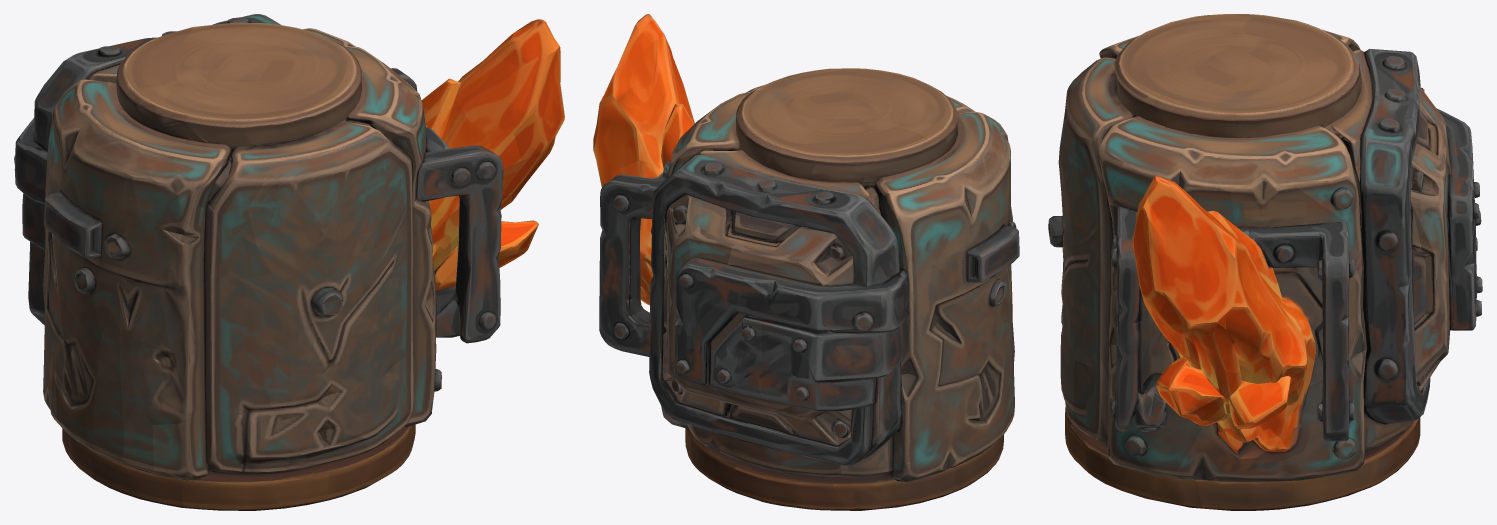
Rendered from 09_crystal_spur.glb.
3 renders of one model, left to right at view 1: azimuth 30°, elevation 25°; view 2: azimuth 150°, elevation 25°; view 3: azimuth 270°, elevation 25°, orthographic. The views are drawn at different scales.
Visible parts, largest first — view 1: output_unwrapped; view 2: output_unwrapped; view 3: output_unwrapped.
Boxes of the visible parts, x1,y1,x2,y2 form: output_unwrapped: (14, 14, 564, 510); output_unwrapped: (593, 14, 1019, 510); output_unwrapped: (1048, 14, 1482, 510).
Bounding box in the file's own units: 1.9 × 1.49 × 1.51.
1 material, 1 textured.
